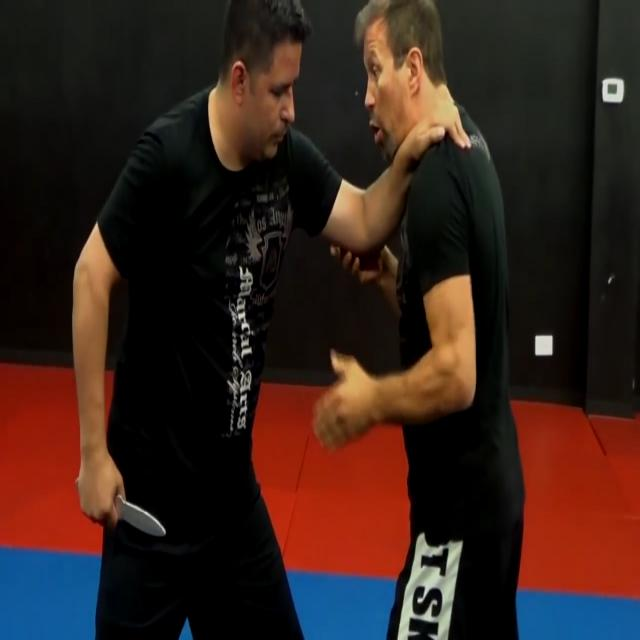knife: (72, 470, 170, 542)
